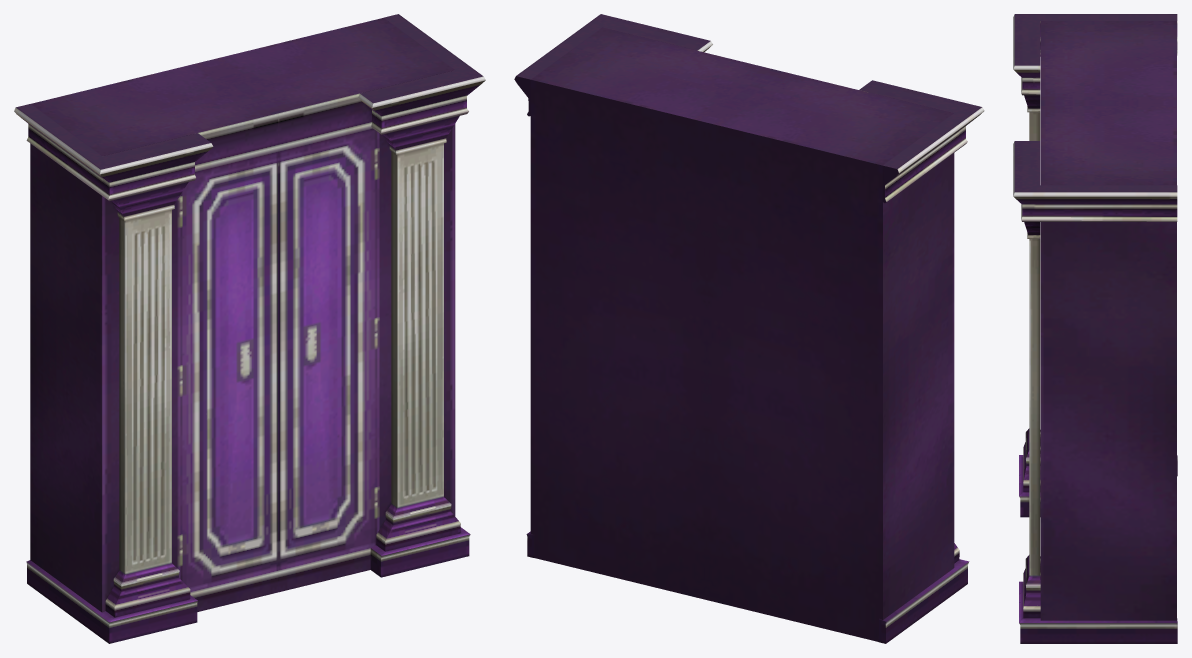
Rendered from furni_0201127_01.FBX.
The picture shows the model from 3 angles, left to right: view 1: azimuth 30°, elevation 25°; view 2: azimuth 150°, elevation 25°; view 3: azimuth 270°, elevation 25°; orthographic projection. The views are drawn at different scales.
Parts seen in each view (by area): view 1: furni_0201127_01; view 2: furni_0201127_01; view 3: furni_0201127_01.
Boxes of the visible parts, x1,y1,x2,y2 form: furni_0201127_01: [14, 14, 485, 643]; furni_0201127_01: [514, 14, 984, 643]; furni_0201127_01: [1013, 14, 1177, 643].
Bounding box in the file's own units: 187 × 222 × 72.07.
1 material, 1 textured.
